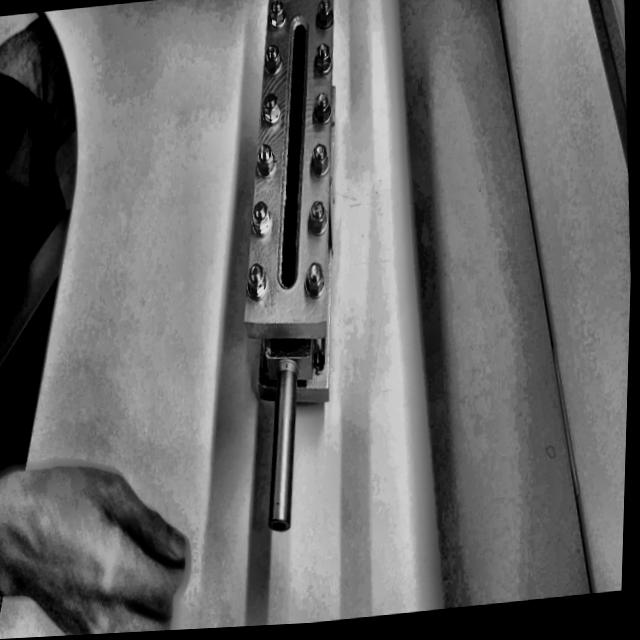ShuiWeiQi_12: (219, 0, 371, 549)
